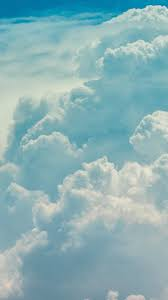sky: (3, 4, 168, 295)
